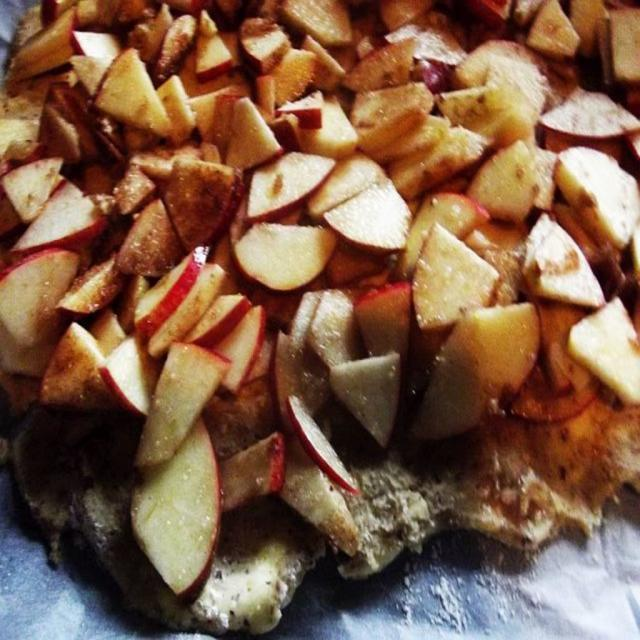Apple pie: (0, 0, 639, 606), (412, 208, 503, 346)
